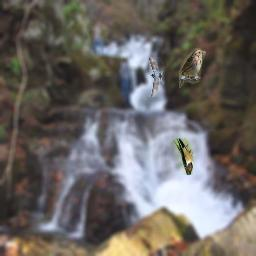Sparrow: (179, 48, 206, 88)
Swallow: (173, 138, 193, 175), (149, 57, 165, 97)
